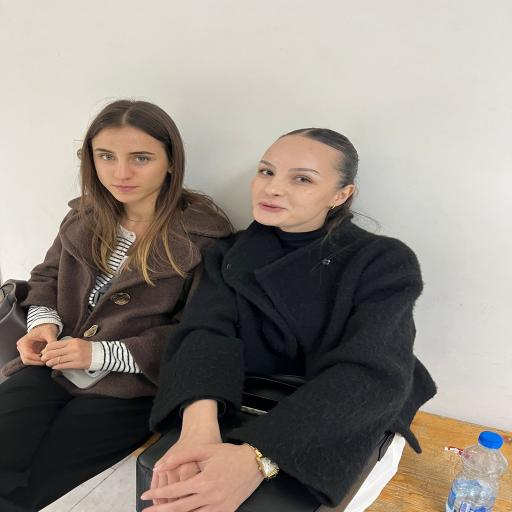marija: (254, 135, 344, 225)
masa: (92, 125, 172, 201)
